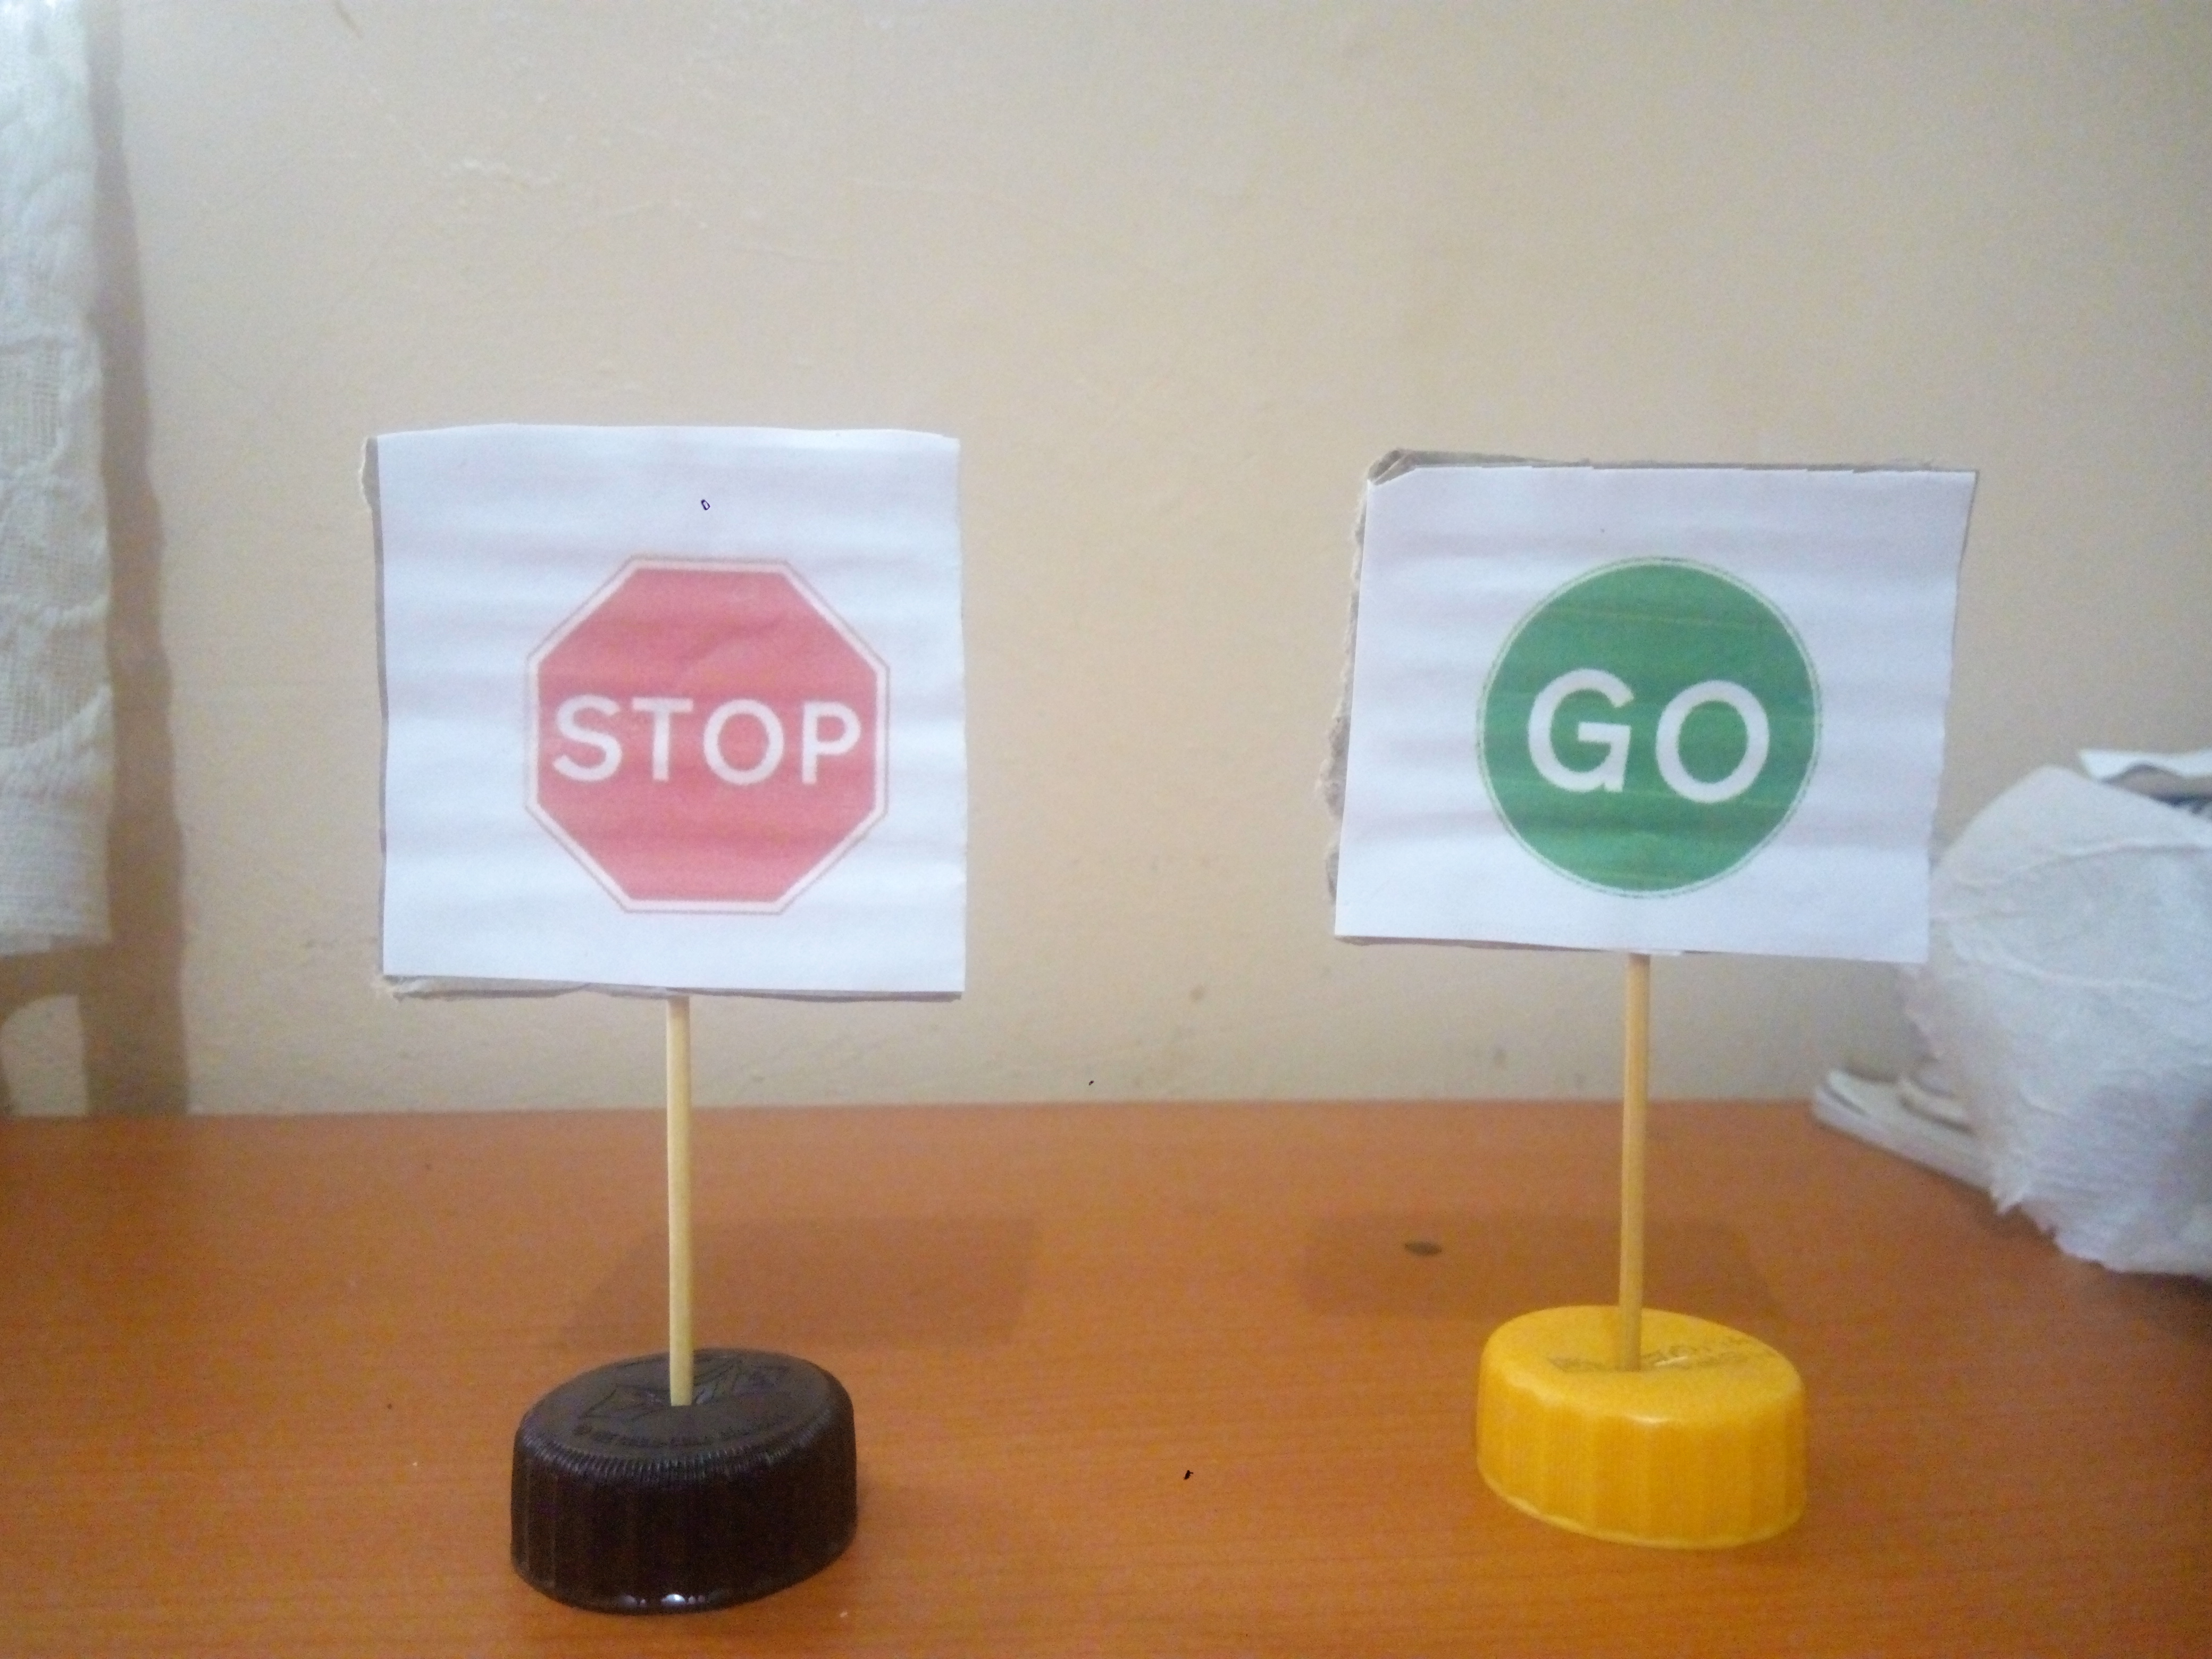Go: (1454, 519, 1829, 904)
stop: (505, 495, 925, 962)
